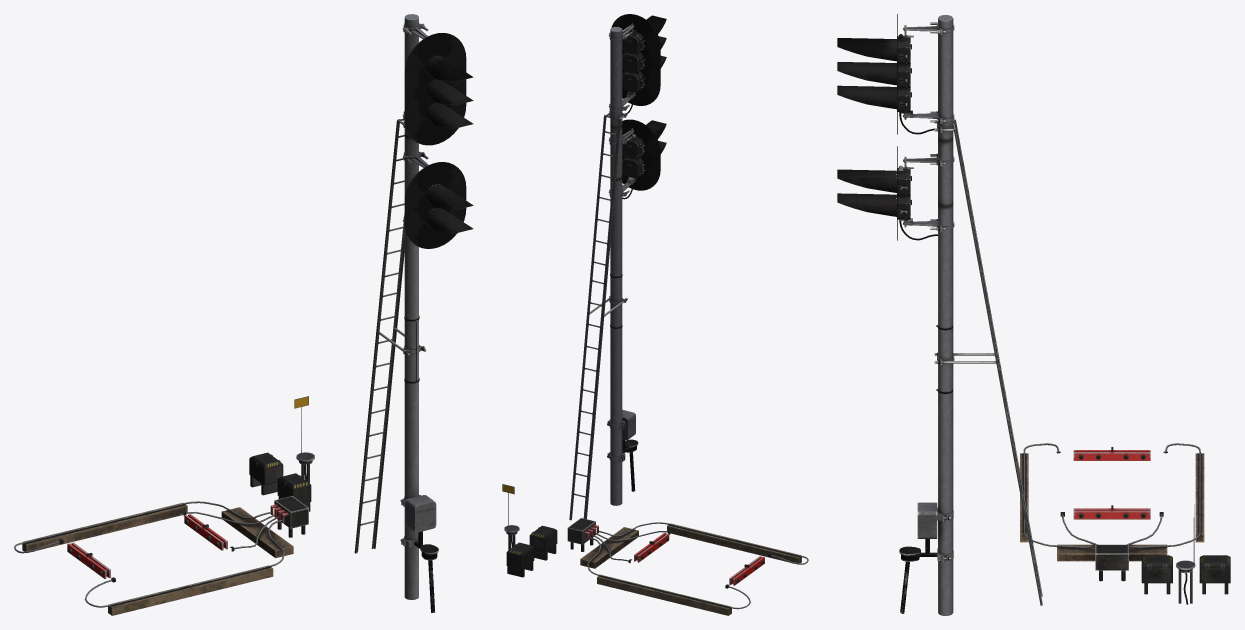
Rendered from RM_sig_P_MM2_3+2_exit.gltf.
The picture shows the model from 3 angles, left to right: view 1: azimuth 30°, elevation 25°; view 2: azimuth 150°, elevation 25°; view 3: azimuth 270°, elevation 25°; orthographic projection. The views are drawn at different scales.
Visible parts, largest first — view 1: Светофор маршрутный, Изостык, Cylinder001, Cylinder002; view 2: Светофор маршрутный, Изостык, Cylinder001, Cylinder002; view 3: Светофор маршрутный, Изостык.
Part boxes in pixels (x1,y1,x2,y2): Светофор маршрутный: [354, 14, 473, 612]; Изостык: [14, 396, 314, 615]; Cylinder001: [404, 33, 466, 145]; Cylinder002: [404, 162, 466, 248]; Светофор маршрутный: [569, 15, 666, 520]; Изостык: [502, 484, 808, 615]; Cylinder001: [611, 14, 660, 105]; Cylinder002: [622, 119, 660, 190]; Светофор маршрутный: [837, 15, 1042, 615]; Изостык: [1020, 443, 1230, 604].
Size of the model in its own units: 4.22 by 7.58 by 4.54.
Materials: 3 (2 with a texture image).
